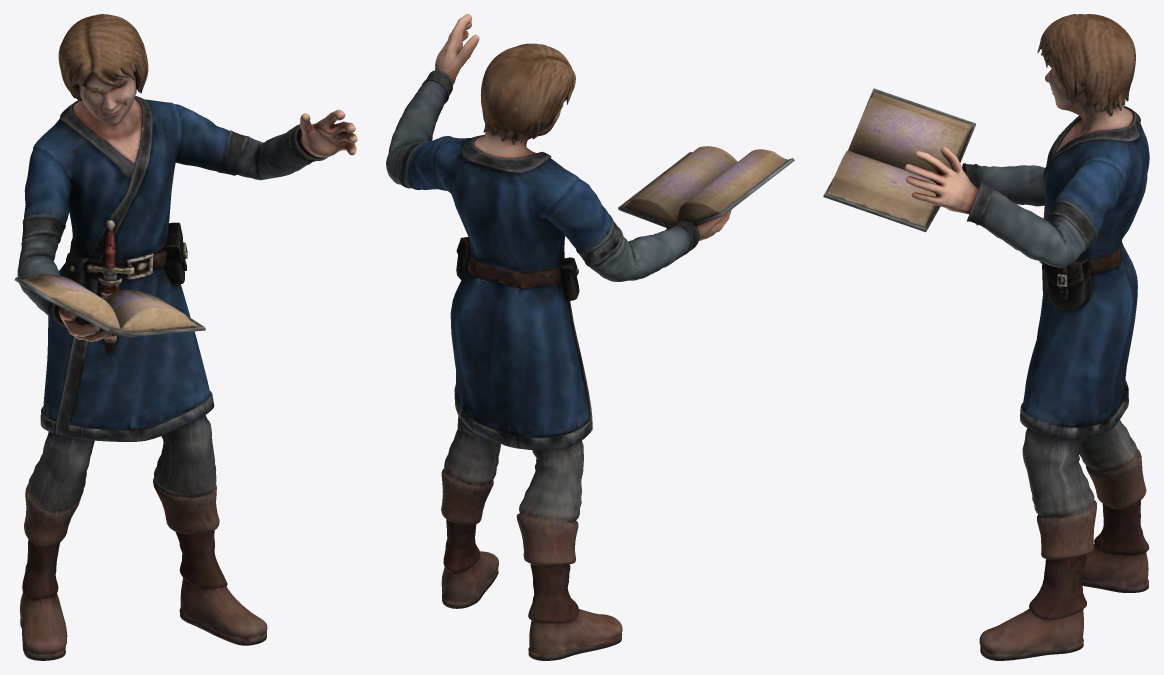
Rendered from MZ4250 - Apprentice Wizard_1.glb.
The picture shows the model from 3 angles, left to right: view 1: azimuth 30°, elevation 25°; view 2: azimuth 150°, elevation 25°; view 3: azimuth 270°, elevation 25°; orthographic projection. The views are drawn at different scales.
Visible parts, largest first — view 1: Pouch Generic 3.001; view 2: Pouch Generic 3.001; view 3: Pouch Generic 3.001.
Boxes of the visible parts, <box> form: Pouch Generic 3.001: <box>14,14,357,660</box>; Pouch Generic 3.001: <box>386,14,794,660</box>; Pouch Generic 3.001: <box>823,14,1149,660</box>.
Size of the model in its own units: 0.4812 by 0.8256 by 0.4147.
Materials: 1 (1 with a texture image).
